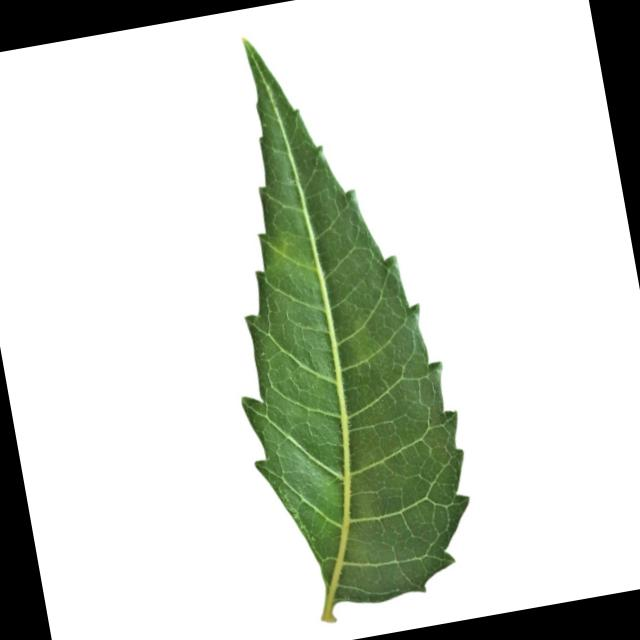Medicinal-Neem: (178, 9, 491, 632)
